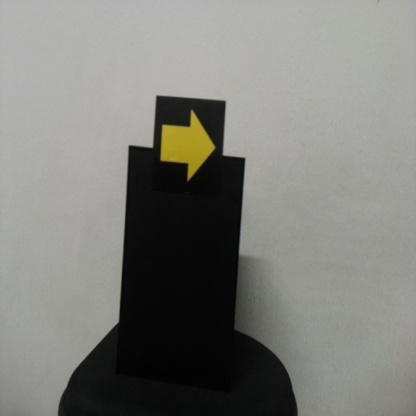id_3: (157, 96, 223, 191)
